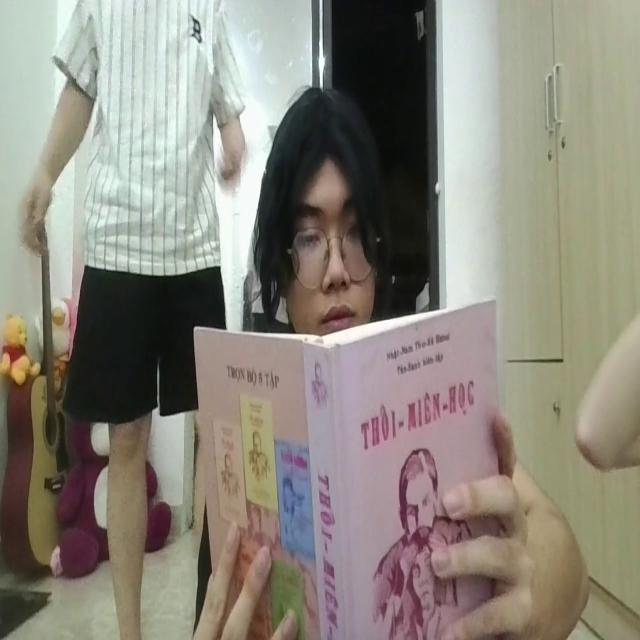book: (192, 302, 496, 640)
extra_person: (21, 1, 248, 640)
student: (256, 82, 388, 334)
